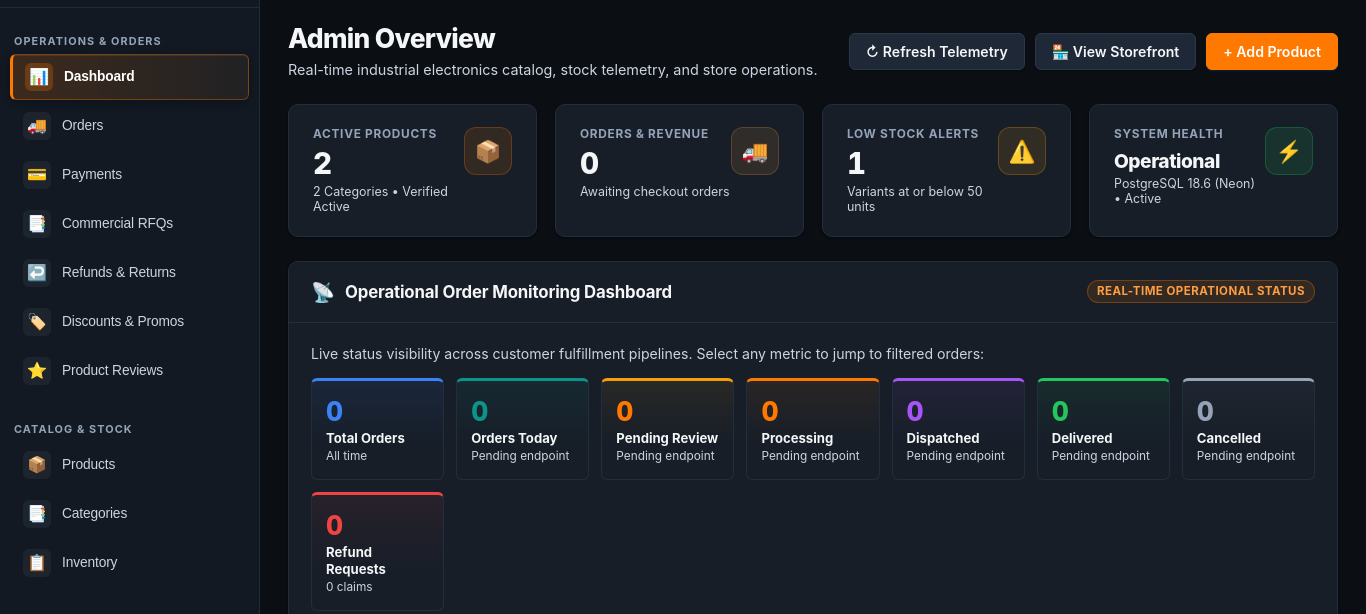
Test: VERTEX Admin Portal Suite › 7. Navigates to Categories, Orders, and Settings sections smoothly
Expected: the heading "Admin Overview" is shown, top-left (288, 22), bottom-right (495, 54)
What coordinates should you click on to do the following:
click the button titled "Categories"
I would click on:
 (130, 514)
Its box is top-left (10, 491), bottom-right (249, 537).
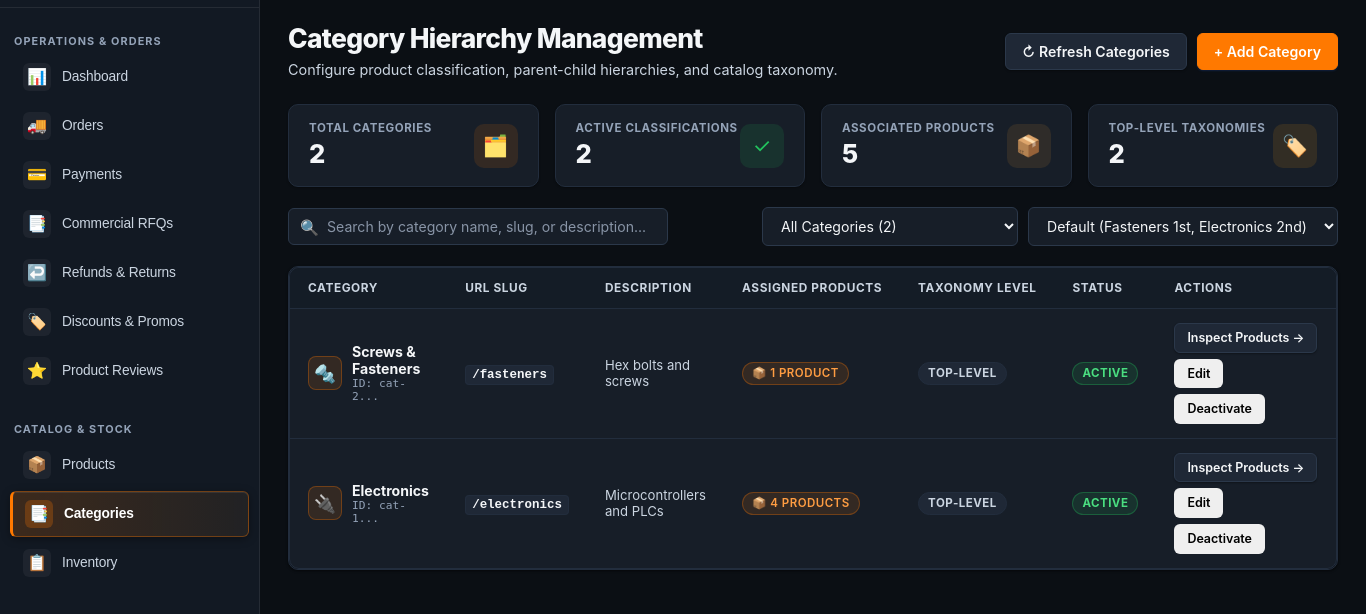
Expected: the heading "Category Hierarchy Management" is shown, top-left (288, 22), bottom-right (703, 54)
What coordinates should you click on to do the following:
click the button titled "Orders"
I would click on:
 (130, 126)
Its box is top-left (10, 103), bottom-right (249, 149).
(page scrolled)
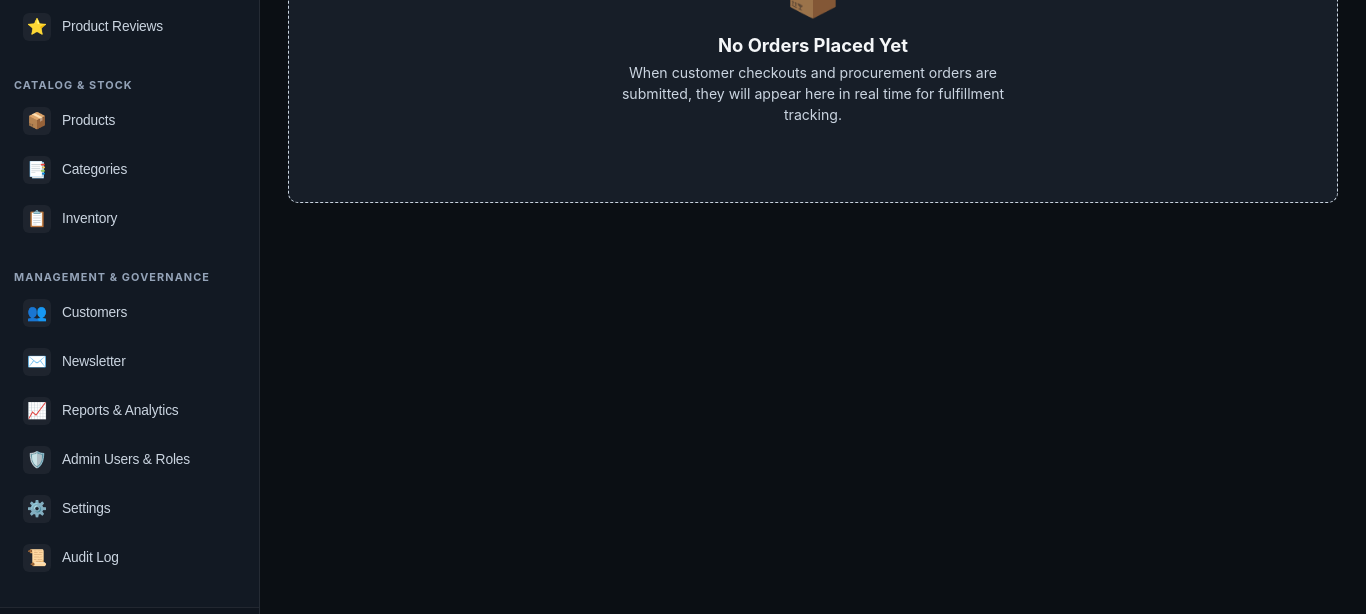
What coordinates should you click on to do the following:
click the button titled "Settings"
I would click on:
 (130, 509)
Its box is top-left (10, 486), bottom-right (249, 532).
(page scrolled)
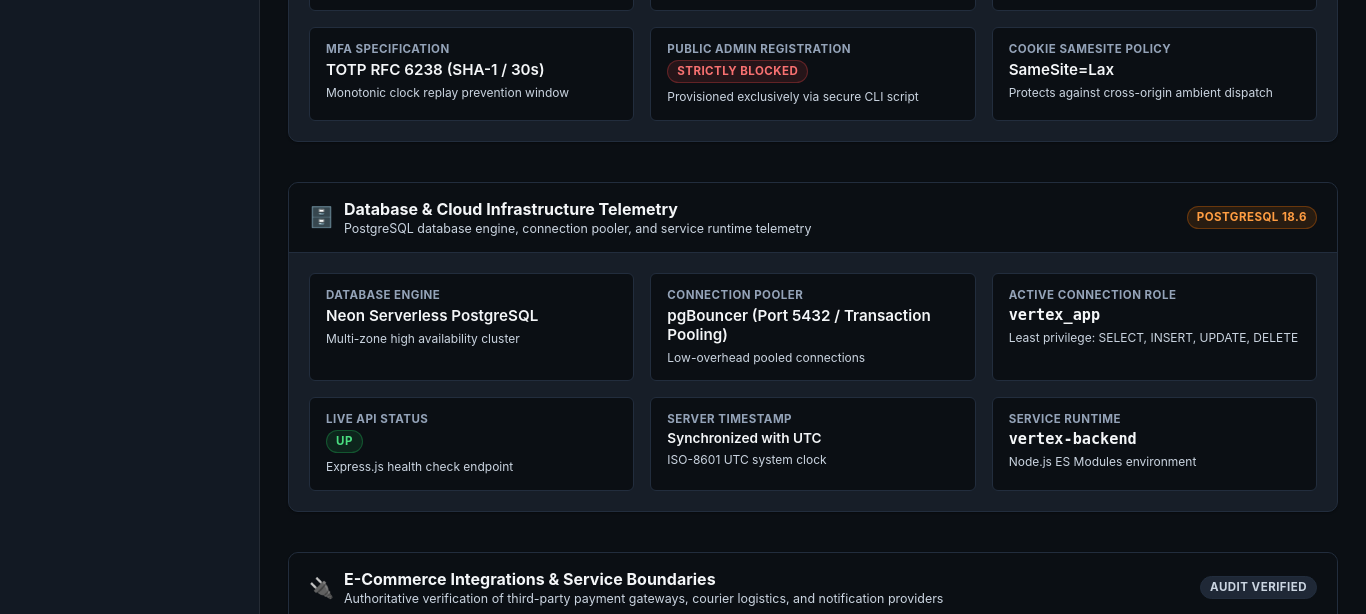
Expected: the text "Neon Serverless PostgreSQL" is shown, top-left (326, 306), bottom-right (538, 324)
